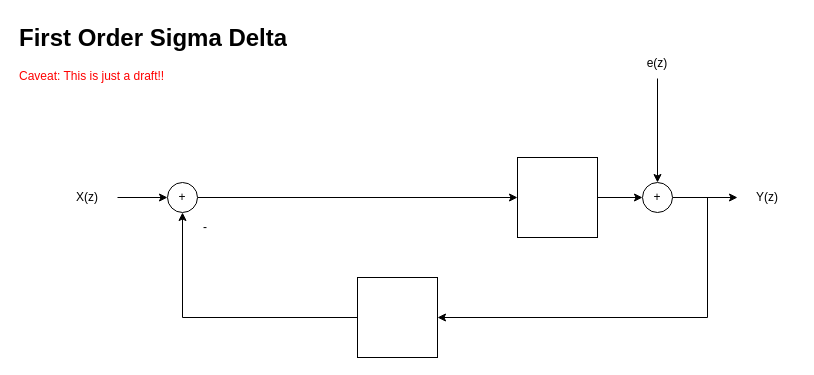
Some shapes in this 814 by 375 pixel diagram are drawn without their labels. Each missing label, with the box of its shape:
Quantizer: (516, 156, 598, 238)
z -1: (356, 276, 438, 358)
